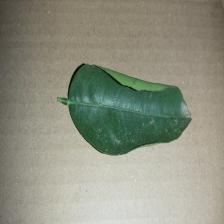healthy: (46, 38, 194, 170)
